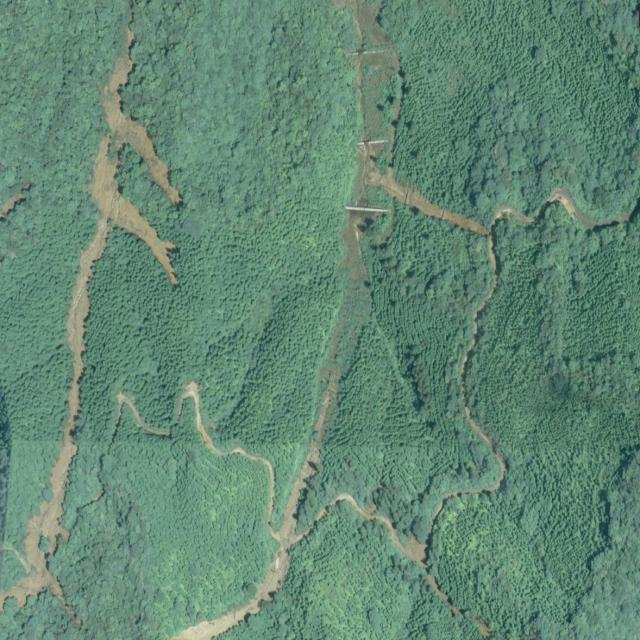landslide: (0, 26, 180, 624), (177, 213, 369, 640), (363, 152, 487, 234)
